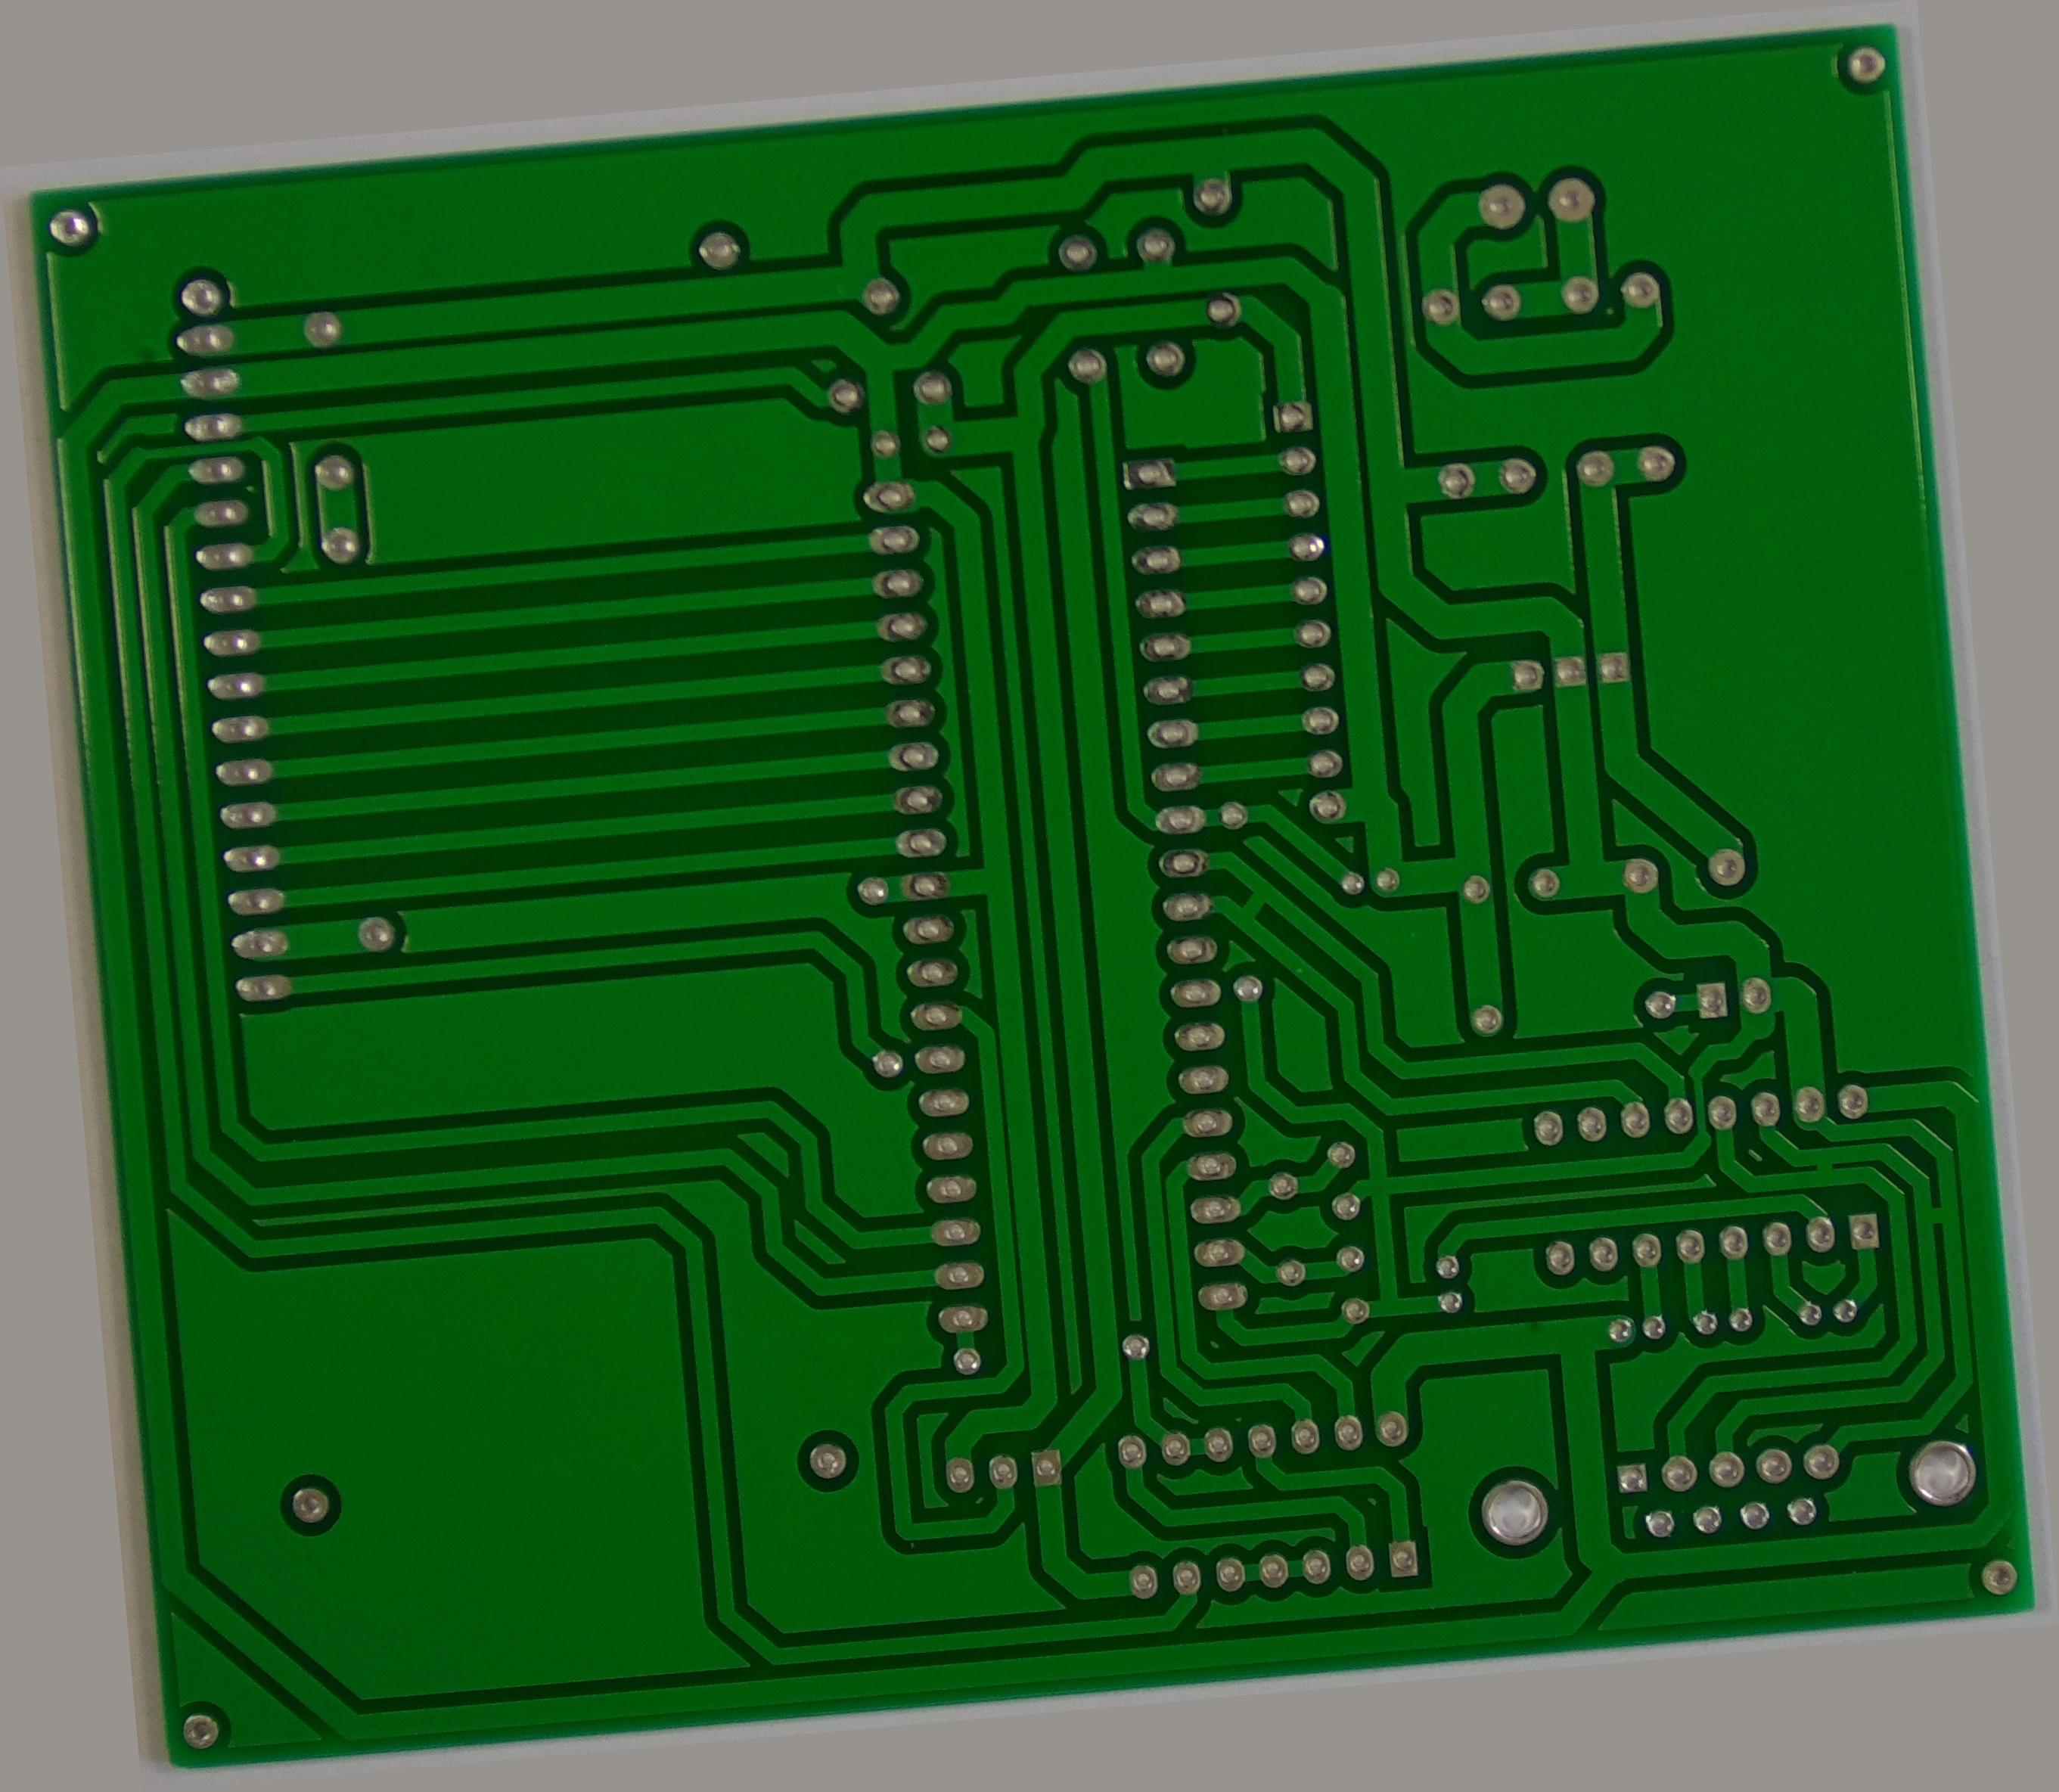short: (1238, 893, 1297, 962), (1823, 1238, 1880, 1295), (1942, 1303, 1994, 1358)
